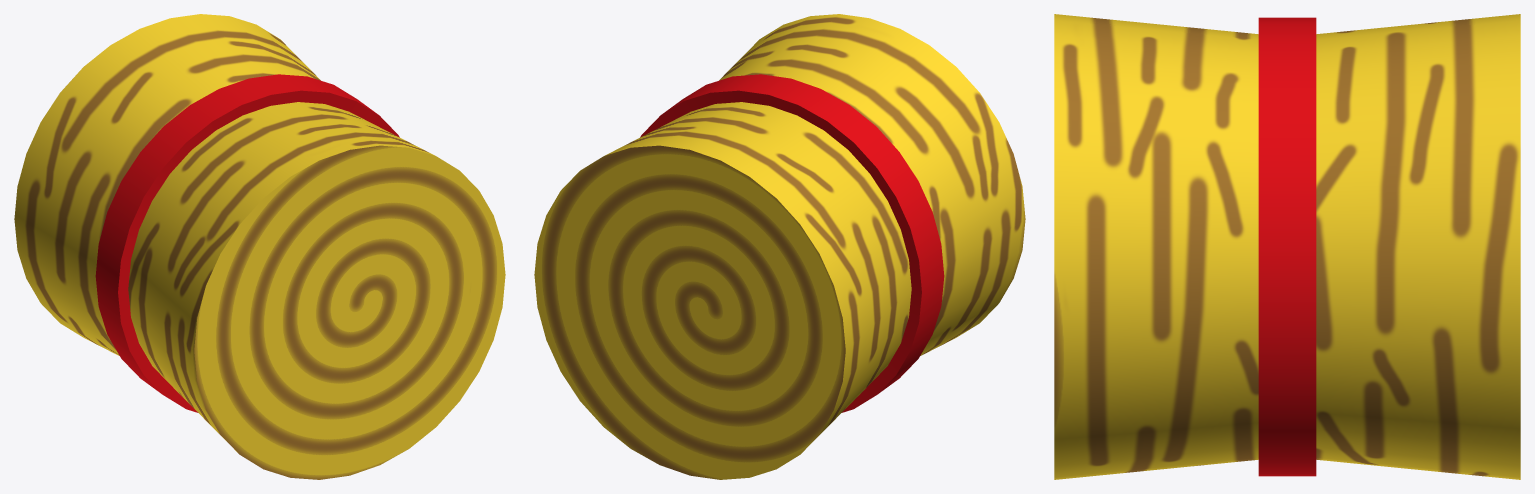
The model's file is hay.glb.
3 views of the same model, side by side, from view 1: azimuth 30°, elevation 25°; view 2: azimuth 150°, elevation 25°; view 3: azimuth 270°, elevation 25° (orthographic). The views are drawn at different scales.
Parts seen in each view (by area): view 1: Heno; view 2: Heno; view 3: Heno.
Boxes of the visible parts, box(x1,y1,x2,y2) form: Heno: box(14, 14, 505, 479); Heno: box(534, 14, 1025, 479); Heno: box(1054, 14, 1520, 479).
Size of the model in its own units: 1.74 by 1.74 by 1.74.
Materials: 2 (1 with a texture image).
